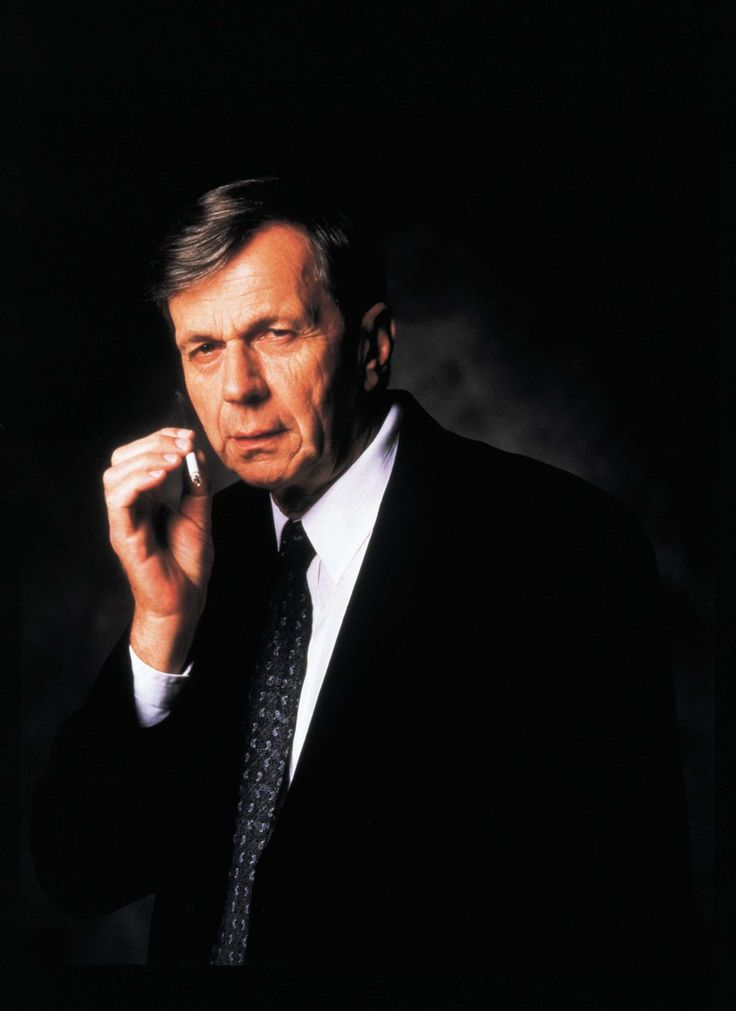cigarette: (172, 443, 208, 488)
